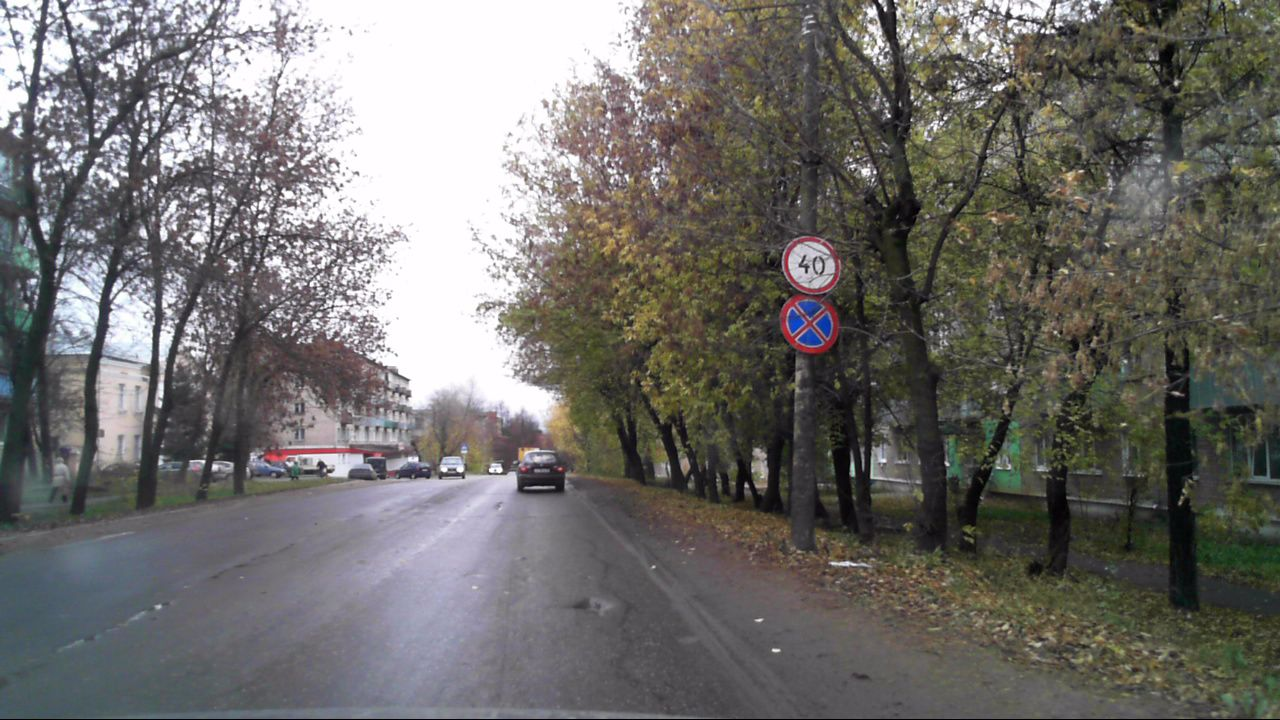No Parking: (778, 294, 841, 354)
speed_warning_40: (782, 234, 842, 296)
